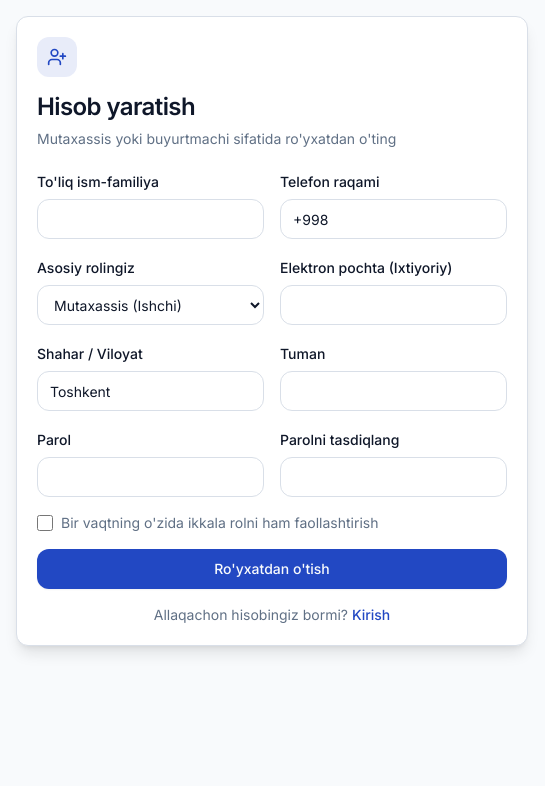
Test: Authentication Forms & Role-Based Routing › validates matching passwords and dual-role company toggle on RegisterPage
The width and height of the screenshot is (545, 786).
In the field labelled "To'liq ism-familiya": (150, 219) top-left (37, 199), bottom-right (264, 239), type "Ali Valiyev"
Replace the text in the field labelled "Telefon raqami" with "+998901112233": (394, 219) top-left (280, 199), bottom-right (507, 239)
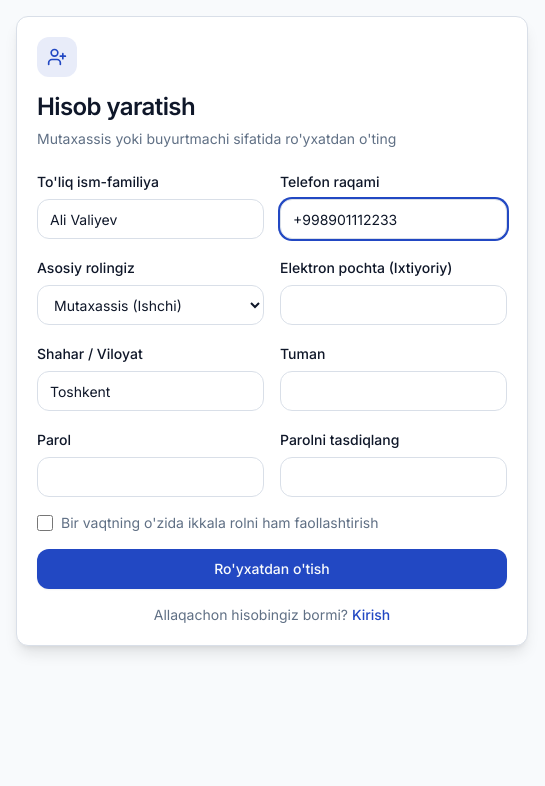
In the password field labelled "Parol": (150, 477) top-left (37, 457), bottom-right (264, 497), type "Password123!"
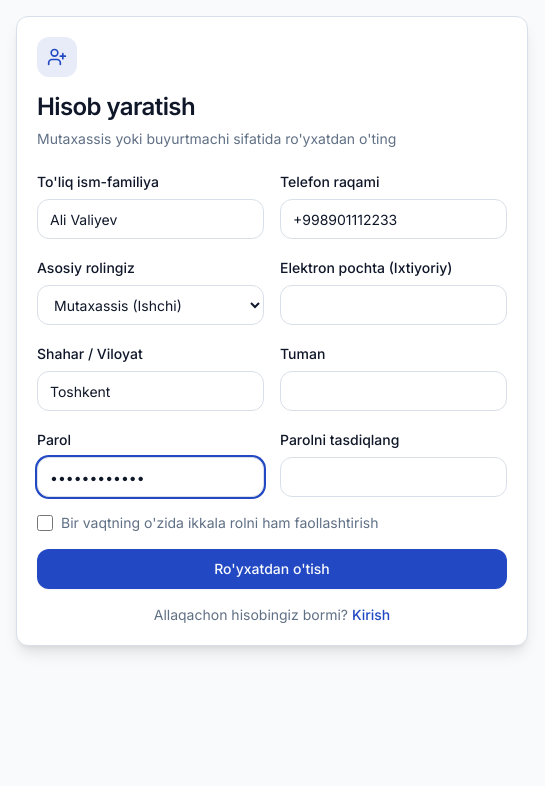
In the password field labelled "Parolni tasdiqlang": (394, 477) top-left (280, 457), bottom-right (507, 497), type "Different123!"
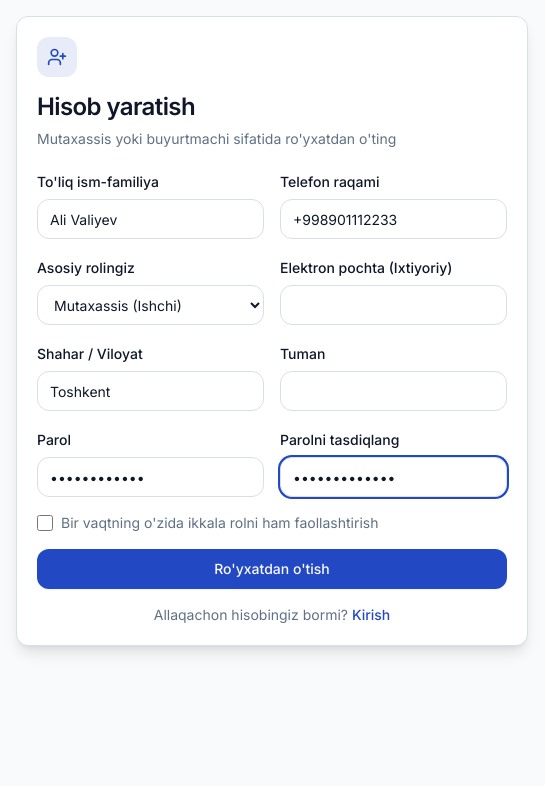
Select "Buyurtmachi" in the dropdown labelled "Asosiy rolingiz": (150, 305) top-left (37, 285), bottom-right (264, 325)
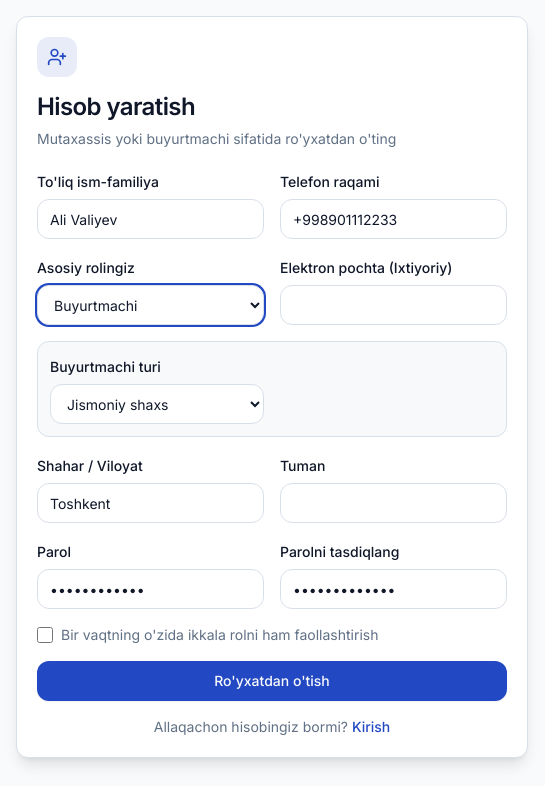
Select "Kompaniya / MChJ" in the dropdown labelled "Buyurtmachi turi": (157, 404) top-left (50, 384), bottom-right (264, 424)
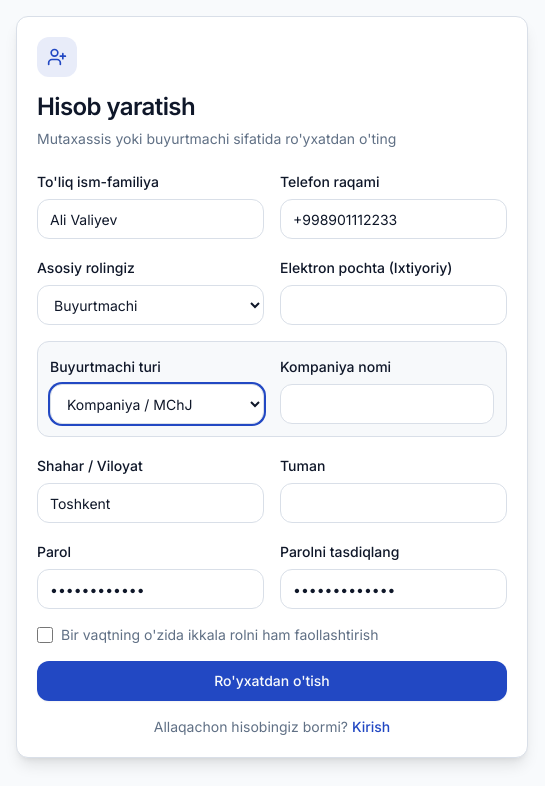
Expected: the field labelled "Kompaniya nomi" is shown, top-left (280, 384), bottom-right (494, 424)
Click the button "Ro'yxatdan o'tish": (272, 681) top-left (37, 661), bottom-right (507, 701)
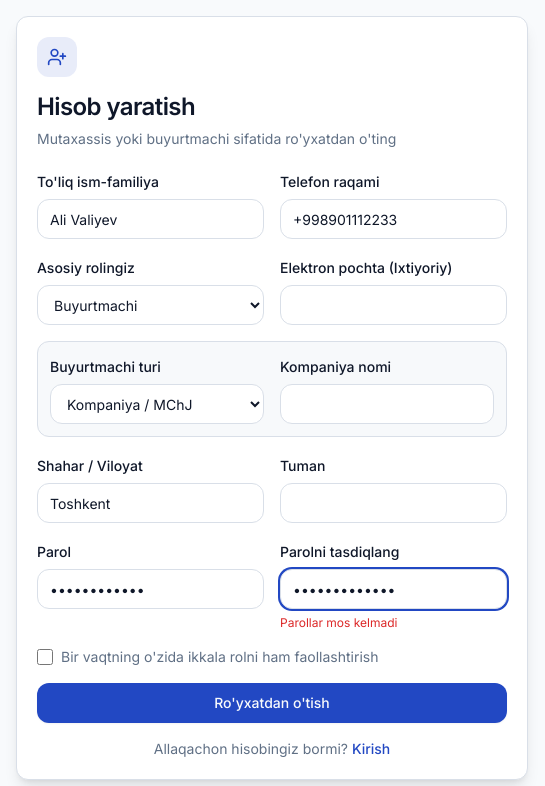
Expected: the text "Parollar mos kelmadi" is shown, top-left (280, 615), bottom-right (398, 630)
